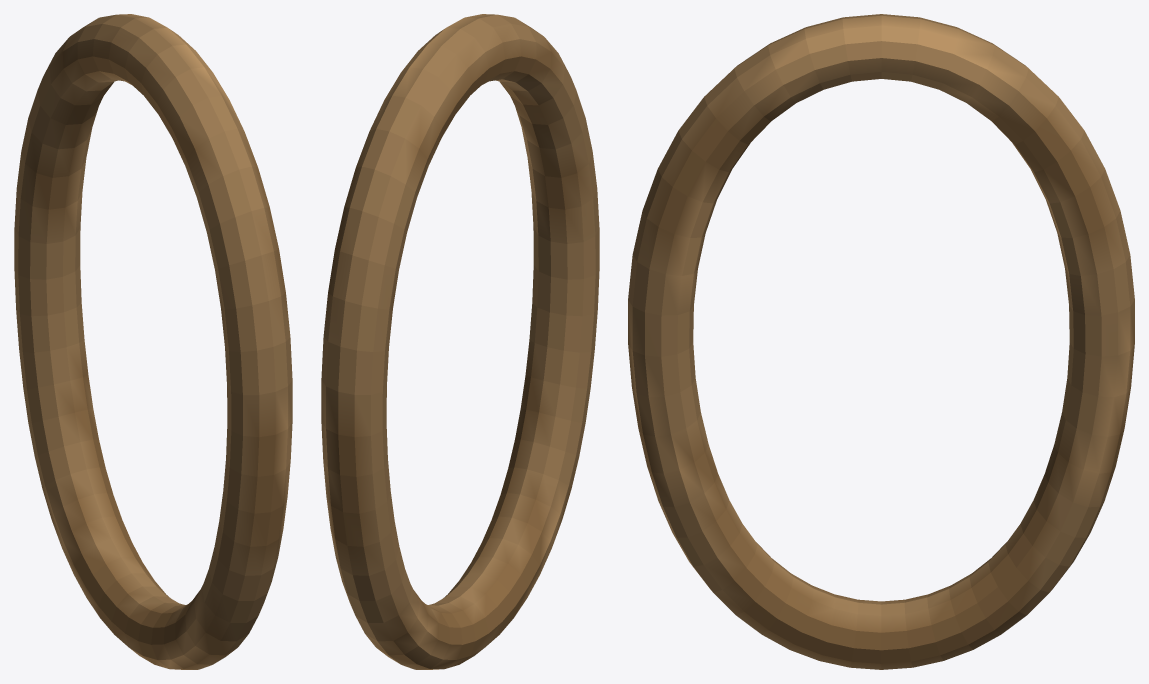
File: LassoHoop.fbx
The picture shows the model from 3 angles, left to right: view 1: azimuth 30°, elevation 25°; view 2: azimuth 150°, elevation 25°; view 3: azimuth 270°, elevation 25°; orthographic projection. The views are drawn at different scales.
Parts seen in each view (by area): view 1: Torus.002; view 2: Torus.002; view 3: Torus.002.
Boxes of the visible parts, bbox=[...] form: Torus.002: bbox=[14, 14, 292, 669]; Torus.002: bbox=[321, 14, 599, 669]; Torus.002: bbox=[628, 14, 1134, 669].
Size of the model in its own units: 46.44 by 484 by 341.
